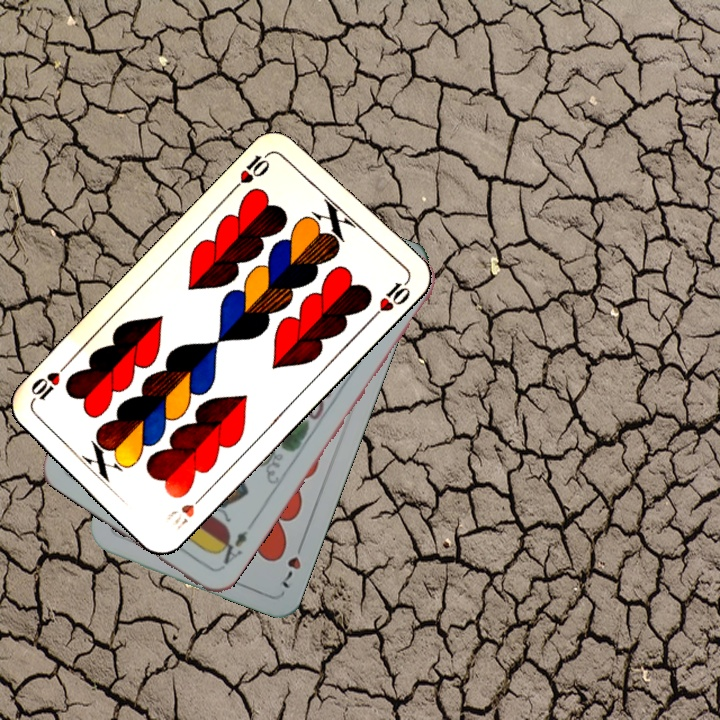EA: (212, 526, 251, 572)
H10: (228, 147, 274, 194), (161, 488, 209, 533)
H7: (276, 536, 307, 591)
